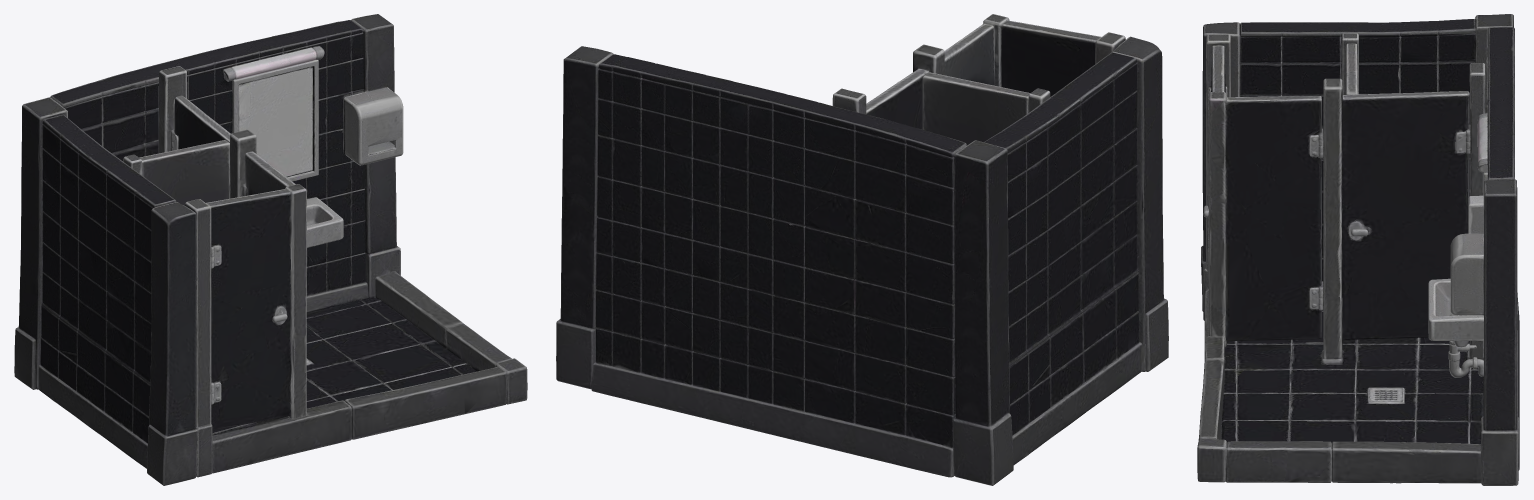
Rendered from wc_new_opt.glb.
The picture shows the model from 3 angles, left to right: view 1: azimuth 30°, elevation 25°; view 2: azimuth 150°, elevation 25°; view 3: azimuth 270°, elevation 25°; orthographic projection. The views are drawn at different scales.
Size of the model in its own units: 1.9 by 1.4 by 1.36.
Materials: 1 (1 with a texture image).
